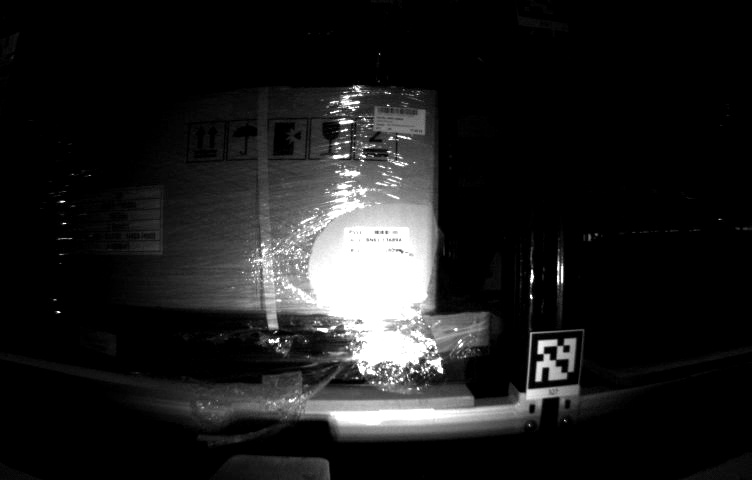True Barcode: (344, 226, 413, 293)
